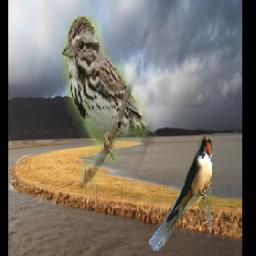Sparrow: (61, 17, 180, 195)
Swallow: (150, 135, 213, 251)
